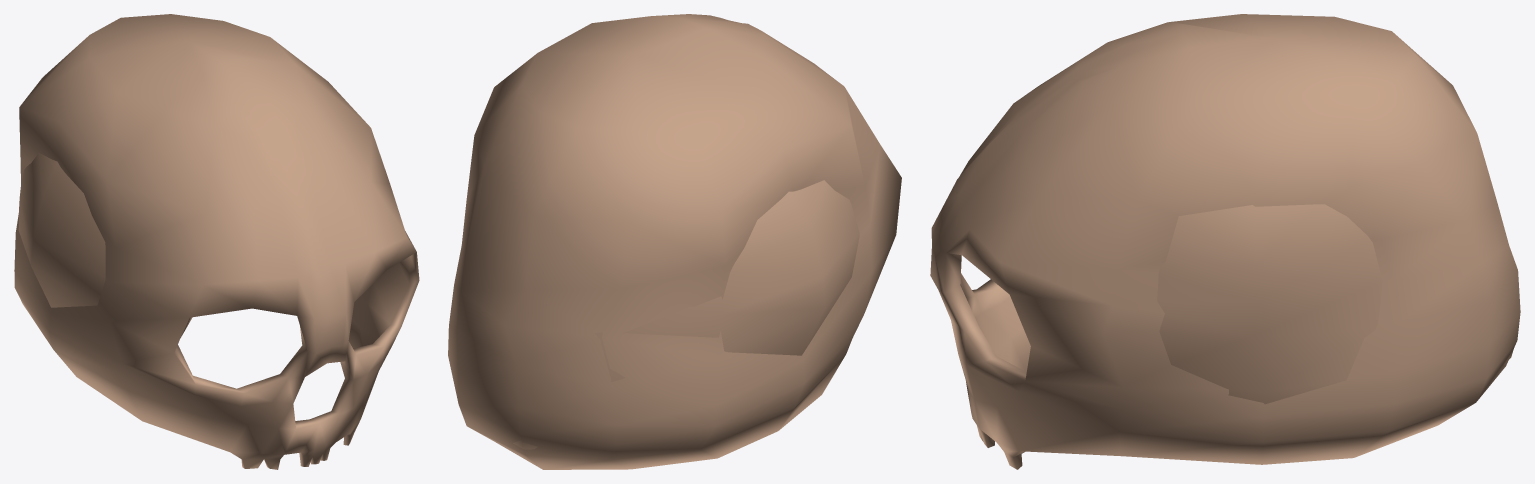
The model's file is Calavera.fbx.
3 views of the same model, side by side, from view 1: azimuth 30°, elevation 25°; view 2: azimuth 150°, elevation 25°; view 3: azimuth 270°, elevation 25° (orthographic). The views are drawn at different scales.
Parts seen in each view (by area): view 1: Sphere001; view 2: Sphere001; view 3: Sphere001.
Part boxes in pixels (x1,y1,x2,y2): Sphere001: (14, 14, 419, 469); Sphere001: (448, 14, 901, 469); Sphere001: (930, 14, 1520, 469).
Bounding box in the file's own units: 29.3 × 31.35 × 41.42.
